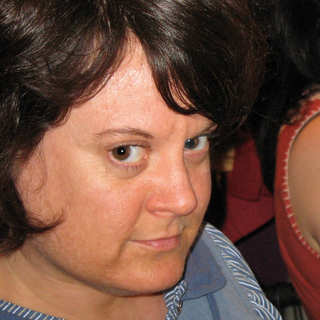eye: (106, 138, 150, 167), (176, 131, 216, 154)
